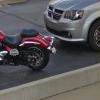Motorcycle: (2, 25, 72, 80)
